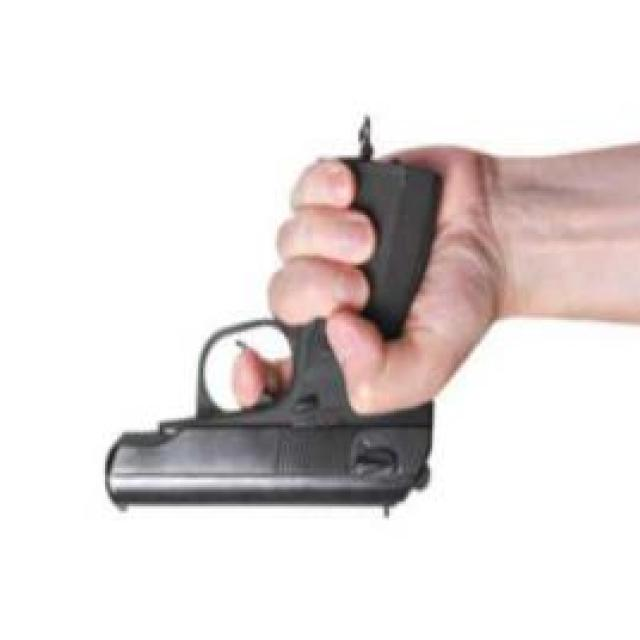pistol: (105, 156, 448, 516)
